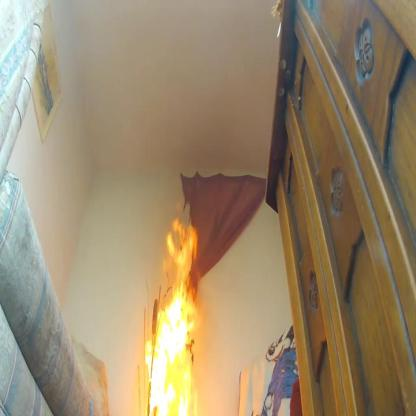fire: (140, 210, 204, 416)
